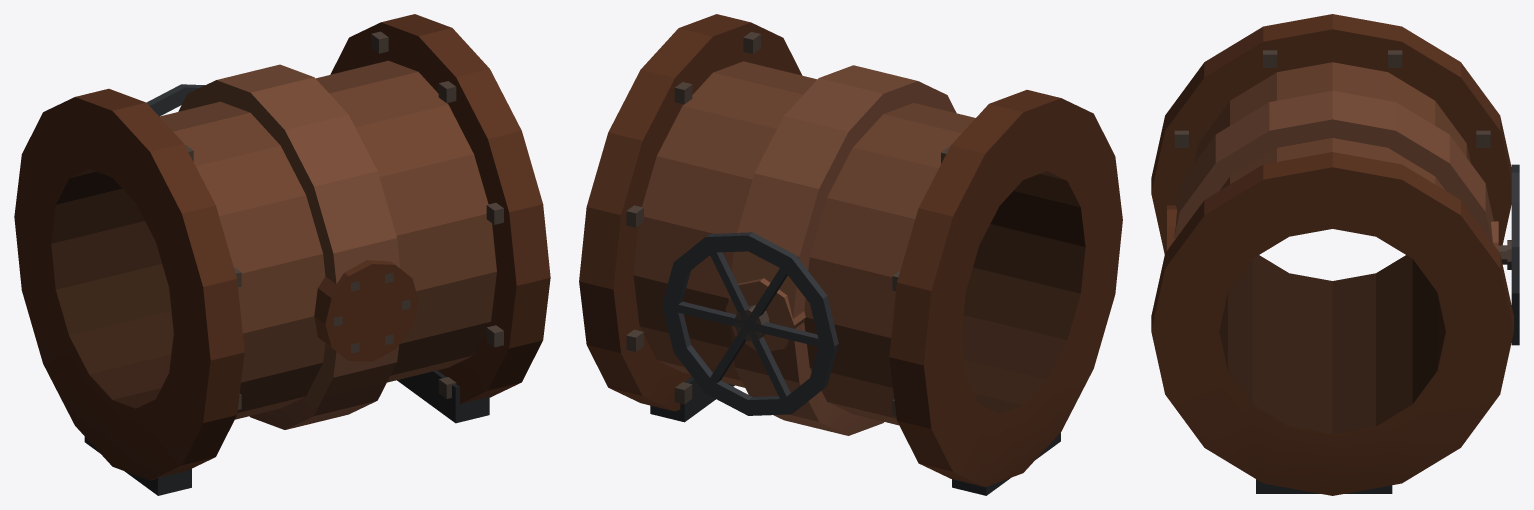
File: pipe.valve.rust.glb
3 renders of one model, left to right at view 1: azimuth 30°, elevation 25°; view 2: azimuth 150°, elevation 25°; view 3: azimuth 270°, elevation 25°, orthographic. The views are drawn at different scales.
Visible parts, largest first — view 1: pipe_valve_rust; view 2: pipe_valve_rust; view 3: pipe_valve_rust.
Part boxes in pixels (bbox=[...]): pipe_valve_rust: bbox=[14, 14, 550, 495]; pipe_valve_rust: bbox=[579, 14, 1122, 495]; pipe_valve_rust: bbox=[1151, 14, 1519, 495].
Size of what is drawn, in the model's own units: 1.6 by 1.6 by 1.62.
